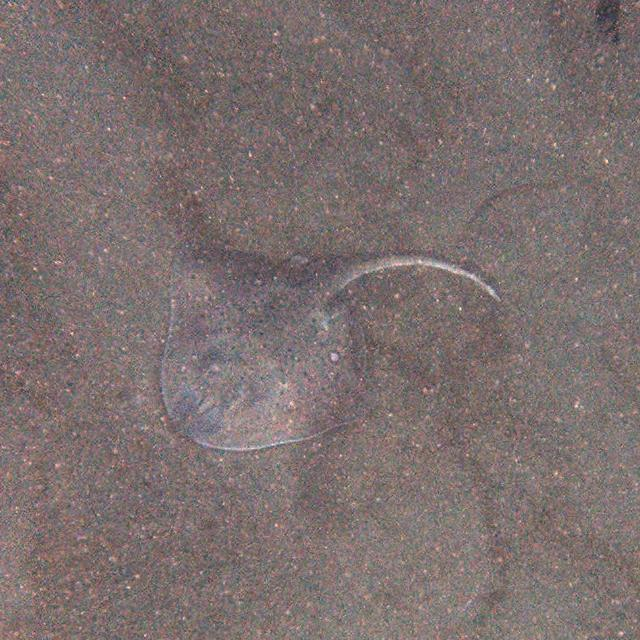skate: (164, 234, 490, 454)
